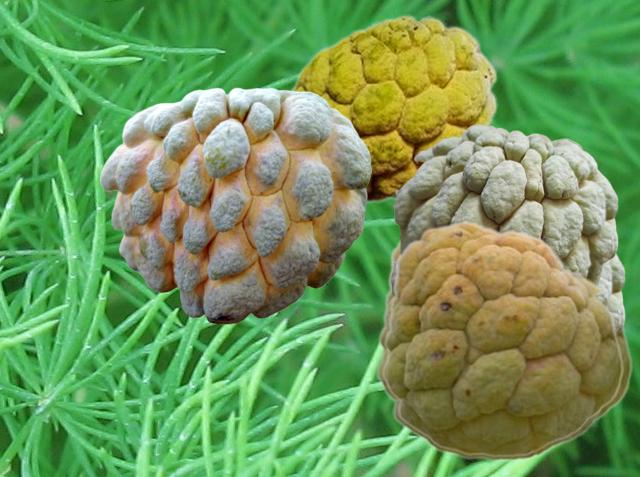atis: (100, 87, 370, 323), (381, 220, 622, 456), (375, 239, 631, 460), (287, 14, 497, 202), (393, 124, 617, 284), (390, 254, 624, 333)
